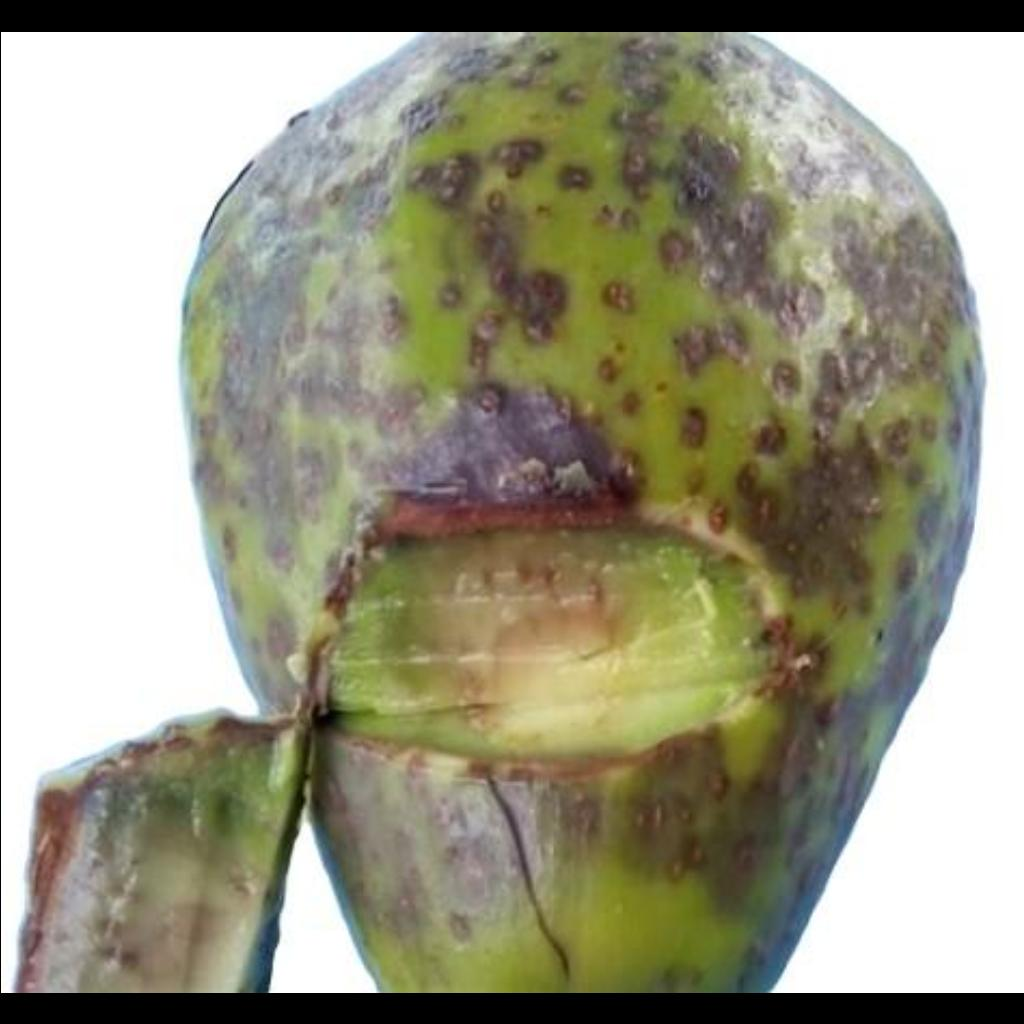antracnosis_fruto: (172, 30, 965, 581)
